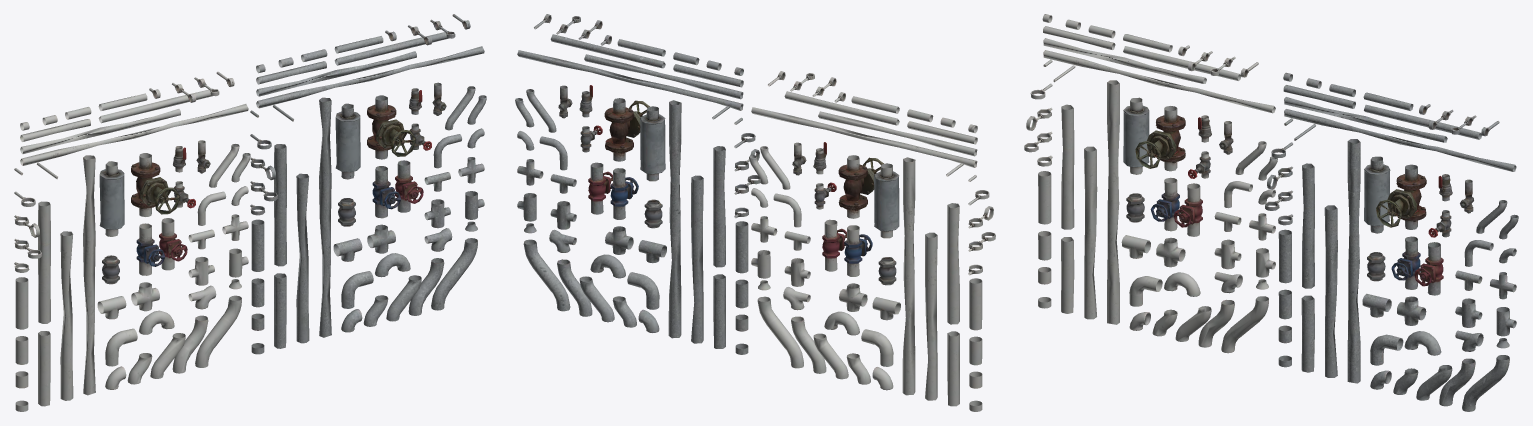
File: modular_pipes.glb
3 views of the same model, side by side, from view 1: azimuth 30°, elevation 25°; view 2: azimuth 150°, elevation 25°; view 3: azimuth 330°, elevation 25° (orthographic). The views are drawn at different scales.
Parts seen in each view (by area): view 1: pipe_200cm_metal, pipe_200cm_pvc, pipe_140cm_pvc, pipe_140cm_metal, pipe_valve_large_pvc, pipe_valve_large_metal, pipe_chamber_large_metal, pipe_chamber_large_pvc, pipe_100cm_pvc, pipe_100cm_metal, pipe_thin_200cm_pvc, pipe_thin_200cm_metal (+36 smaller); view 2: pipe_200cm_pvc, pipe_200cm_metal, pipe_140cm_metal, pipe_140cm_pvc, pipe_chamber_large_metal, pipe_chamber_large_pvc, pipe_valve_large_metal, pipe_valve_large_pvc, pipe_thin_200cm_pvc, pipe_thin_200cm_metal, pipe_100cm_metal, pipe_100cm_pvc (+35 smaller); view 3: pipe_200cm_metal, pipe_200cm_pvc, pipe_140cm_metal, pipe_140cm_pvc, pipe_valve_large_pvc, pipe_valve_large_metal, pipe_chamber_large_pvc, pipe_100cm_pvc, pipe_chamber_large_metal, pipe_100cm_metal, pipe_thin_200cm_pvc, pipe_thin_200cm_metal (+34 smaller).
Boxes of the visible parts, x1,y1,x2,y2 form: pipe_200cm_metal: (319,97,331,337); pipe_200cm_pvc: (83,155,95,395); pipe_140cm_pvc: (60,231,73,400); pipe_140cm_metal: (296,173,309,343); pipe_valve_large_pvc: (131,153,180,216); pipe_valve_large_metal: (367,95,416,159); pipe_chamber_large_metal: (335,103,360,179); pipe_chamber_large_pvc: (99,161,124,236); pipe_100cm_pvc: (38,201,50,323); pipe_100cm_metal: (274,144,286,266); pipe_thin_200cm_pvc: (20,104,248,165); pipe_thin_200cm_metal: (256,46,484,108); pipe_200cm_pvc: (902,157,915,395); pipe_200cm_metal: (668,100,681,338); pipe_140cm_metal: (691,175,703,343); pipe_140cm_pvc: (925,232,937,400); pipe_chamber_large_metal: (640,106,665,181); pipe_chamber_large_pvc: (874,163,899,238); pipe_valve_large_metal: (604,98,649,161); pipe_valve_large_pvc: (838,155,883,218); pipe_thin_200cm_pvc: (751,107,977,167); pipe_thin_200cm_metal: (517,50,743,110); pipe_100cm_metal: (713,146,725,267); pipe_100cm_pvc: (947,203,959,324); pipe_200cm_metal: (1347,139,1360,383); pipe_200cm_pvc: (1107,80,1119,324); pipe_140cm_metal: (1324,205,1337,377); pipe_140cm_pvc: (1084,146,1097,319); pipe_valve_large_pvc: (1135,106,1185,171); pipe_valve_large_metal: (1376,164,1426,229); pipe_chamber_large_pvc: (1123,97,1149,174); pipe_100cm_pvc: (1061,104,1074,229); pipe_chamber_large_metal: (1364,156,1390,233); pipe_100cm_metal: (1302,163,1314,288); pipe_thin_200cm_pvc: (1043,50,1275,113); pipe_thin_200cm_metal: (1284,109,1516,171).
Bounding box in the file's own units: 4.19 × 2.43 × 0.4527.
Materials: 2 (2 with a texture image).
